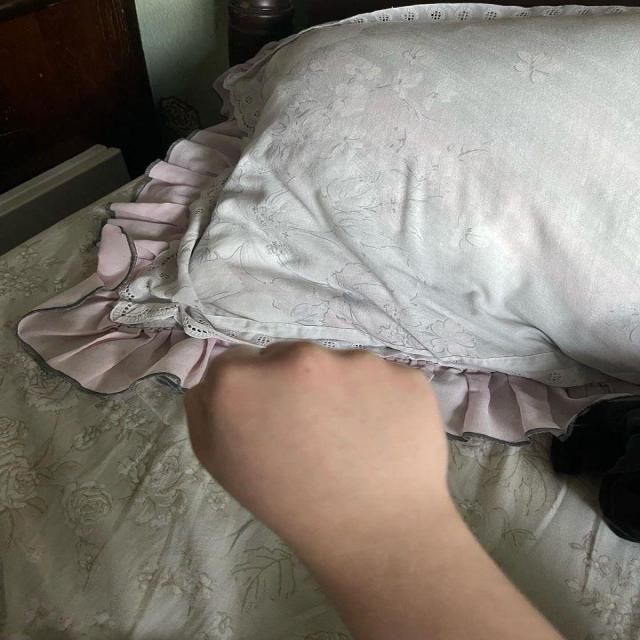A: (180, 331, 452, 536)
